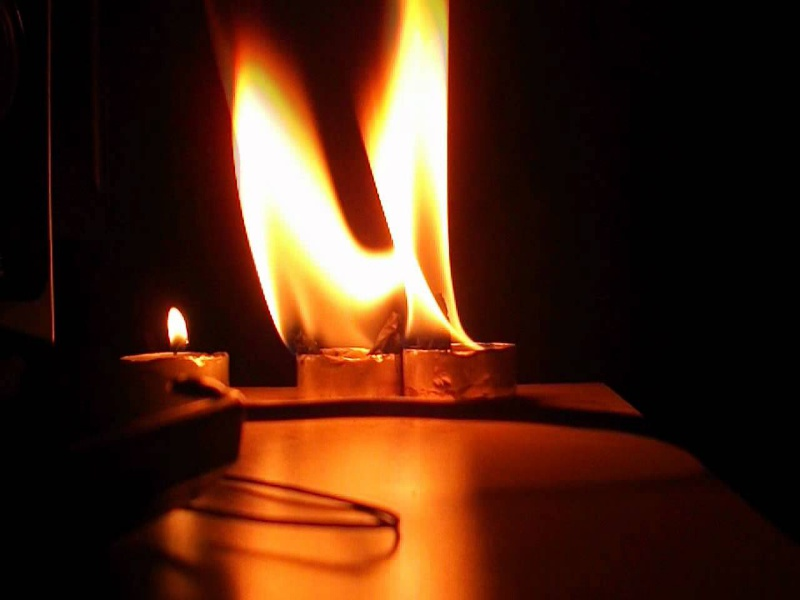fire: (227, 5, 458, 348), (168, 308, 189, 347)
